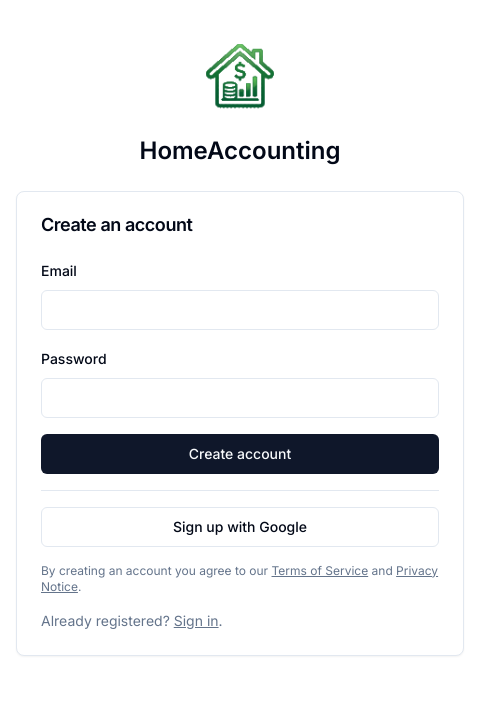
RegisterPage › rejects short passwords client-side
The width and height of the screenshot is (481, 701).
Type "short" into the password field labelled "Password" at (240, 398), box [41,378,439,418]
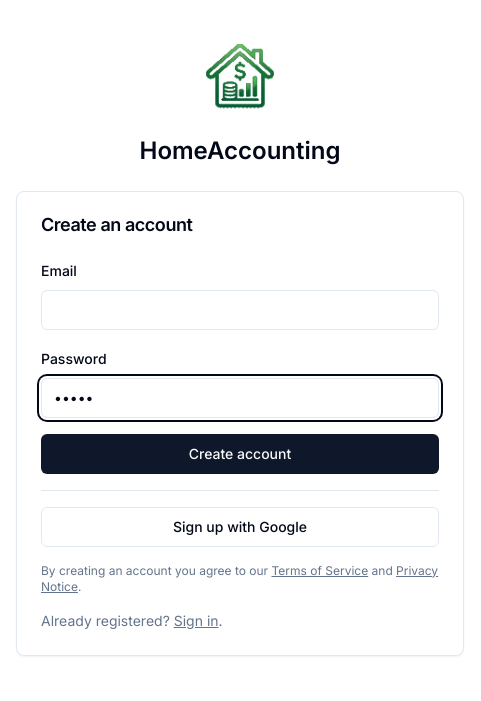
Click the button "Create account" at (240, 454), box [41,434,439,474]
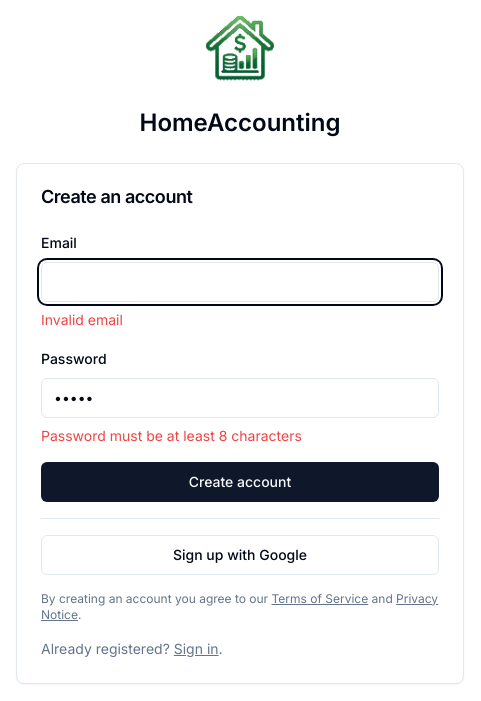
Expected: the text "Password must be at least 8 characters" is shown, [41,426,302,444]
